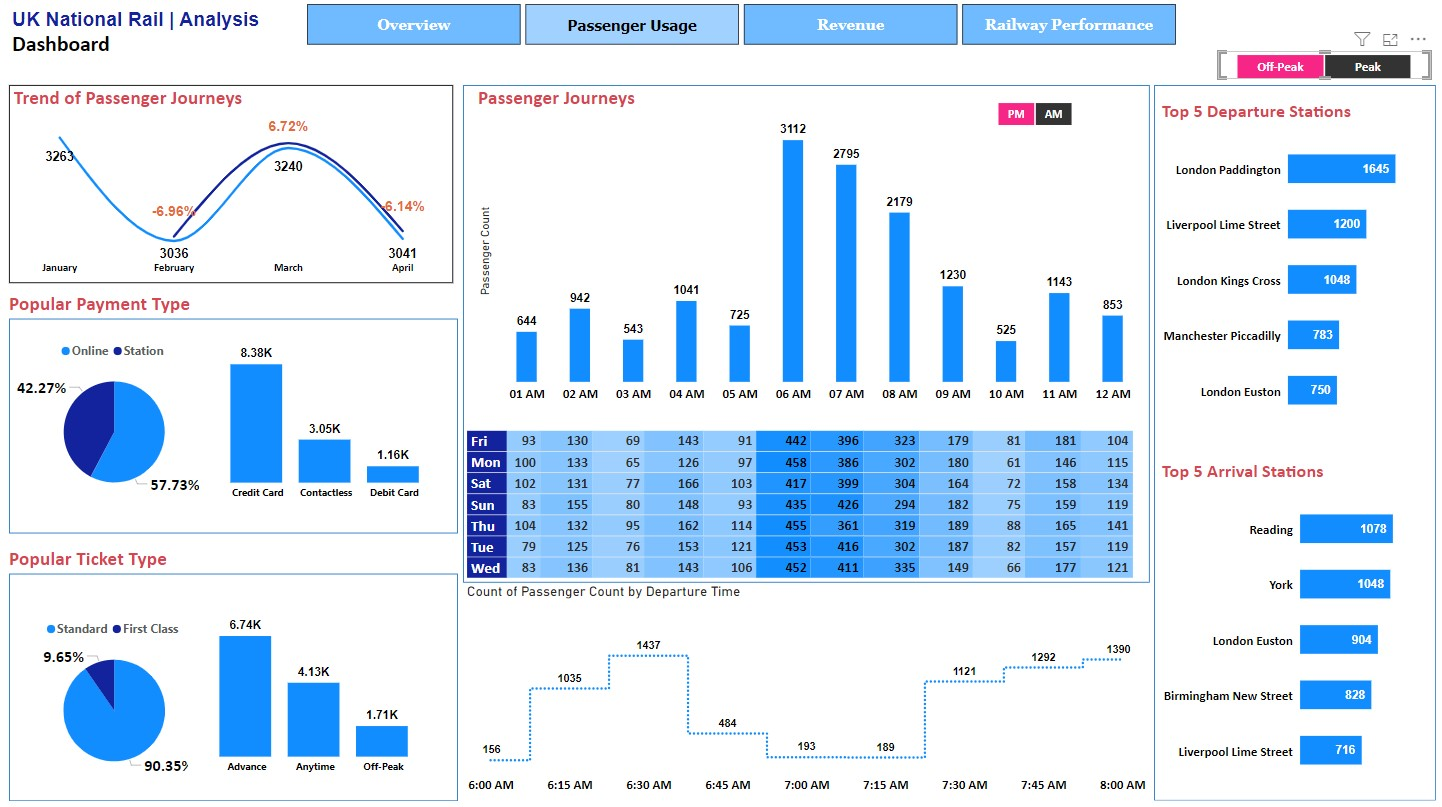

This screenshot's page, from the dashboard's own definition file:
{"tool":"powerbi","page":{"name":"Passenger Usage","canvas":[1780,1000],"ordinal":1},"visuals":[{"type":"shape","box":[1424.3,107.1,347.1,881.4],"z":0},{"type":"shape","title":"Popular Payment Type","box":[14.3,361.4,552.9,298.6],"z":1000},{"type":"shape","title":"Passenger Journeys","box":[574.3,107.1,845.7,612.9],"z":2000},{"type":"pivotTable","fields":{"Rows":["railway.DayOfWeek"],"Values":["CountNonNull(railway.Passenger Count)"],"Columns":["railway.NormalizedHour"]},"box":[574.3,484.3,845.7,237.1],"z":3000},{"type":"pageNavigator","title":"Uk Rail Dashboard","box":[381.8,7.4,1073,50.5],"z":4000},{"type":"textbox","box":[13.5,7.4,325.1,81.3],"z":5000},{"type":"lineChart","title":"Trend of Passenger Journeys","fields":{"Category":["railway.Date of Journey.Variation.Date Hierarchy.Month"],"Y":["CountNonNull(railway.Passenger Count)"],"Y2":["railway.Count of Passenger Count MoM%"]},"box":[14.3,107.1,547.1,244.3],"z":6000},{"type":"pieChart","title":"Popular Payment Type","fields":{"Category":["railway.Purchase Type"],"Y":["CountNonNull(railway.Passenger Count)"]},"box":[17.1,414.3,254.3,210],"z":7000},{"type":"columnChart","fields":{"Category":["railway.Payment Method"],"Y":["CountNonNull(railway.Passenger Count)"]},"box":[248.6,412.9,312.9,214.3],"z":8000},{"type":"shape","title":"Popular Ticket Type","box":[14.3,674.3,552.9,314.3],"z":9000},{"type":"pieChart","title":"Popular Payment Type","fields":{"Y":["CountNonNull(railway.Passenger Count)"],"Category":["railway.Ticket Class"]},"box":[17.1,755.7,254.3,211.4],"z":10000},{"type":"columnChart","fields":{"Y":["CountNonNull(railway.Passenger Count)"],"Category":["railway.Ticket Type"]},"box":[235.7,750,312.9,214.3],"z":11000},{"type":"columnChart","title":"Passenger Journeys","fields":{"Category":["railway.NormalizedHour"],"Y":["CountNonNull(railway.Passenger Count)"]},"box":[587.1,107.1,831.4,398.6],"z":12000},{"type":"slicer","fields":{"Values":["railway.PeakHour"]},"box":[1504.3,65.7,261.4,34.3],"z":13000},{"type":"slicer","fields":{"Values":["railway.TimePeriod"]},"box":[1209.4,124.4,137.9,34.5],"z":14000},{"type":"barChart","title":"Top 5 Departure Stations","fields":{"Y":["CountNonNull(railway.Passenger Count)"],"Category":["railway.Departure Station"]},"box":[1430,124.3,335.7,411.4],"z":15000},{"type":"barChart","title":"Top 5 Arrival Stations","fields":{"Y":["CountNonNull(railway.Passenger Count)"],"Category":["railway.Arrival Destination"]},"box":[1430,567.1,335.7,411.4],"z":16000},{"type":"lineChart","fields":{"Y":["CountNonNull(railway.Passenger Count)"],"Category":["railway.Departure Time"]},"box":[574,721,846,267],"z":17000}]}

Visuals, with their boxes in screenshot pixels (x1, y1, x2, y2), scaled from the page's 1780x1000 canvas onto the 1442x807 screenshot:
shape: box(1154, 86, 1435, 798)
"Popular Payment Type" shape: box(12, 292, 459, 533)
"Passenger Journeys" shape: box(465, 86, 1150, 581)
pivotTable - railway.DayOfWeek x CountNonNull(railway.Passenger Count): box(465, 391, 1150, 582)
"Uk Rail Dashboard" pageNavigator: box(309, 6, 1179, 47)
textbox: box(11, 6, 274, 72)
"Trend of Passenger Journeys" lineChart: box(12, 86, 455, 284)
"Popular Payment Type" pieChart: box(14, 334, 220, 504)
columnChart - railway.Payment Method x CountNonNull(railway.Passenger Count): box(201, 333, 455, 506)
"Popular Ticket Type" shape: box(12, 544, 459, 798)
"Popular Payment Type" pieChart: box(14, 610, 220, 780)
columnChart - CountNonNull(railway.Passenger Count) x railway.Ticket Type: box(191, 605, 444, 778)
"Passenger Journeys" columnChart: box(476, 86, 1149, 408)
slicer - railway.PeakHour: box(1219, 53, 1430, 81)
slicer - railway.TimePeriod: box(980, 100, 1091, 128)
"Top 5 Departure Stations" barChart: box(1158, 100, 1430, 432)
"Top 5 Arrival Stations" barChart: box(1158, 458, 1430, 790)
lineChart - CountNonNull(railway.Passenger Count) x railway.Departure Time: box(465, 582, 1150, 797)
